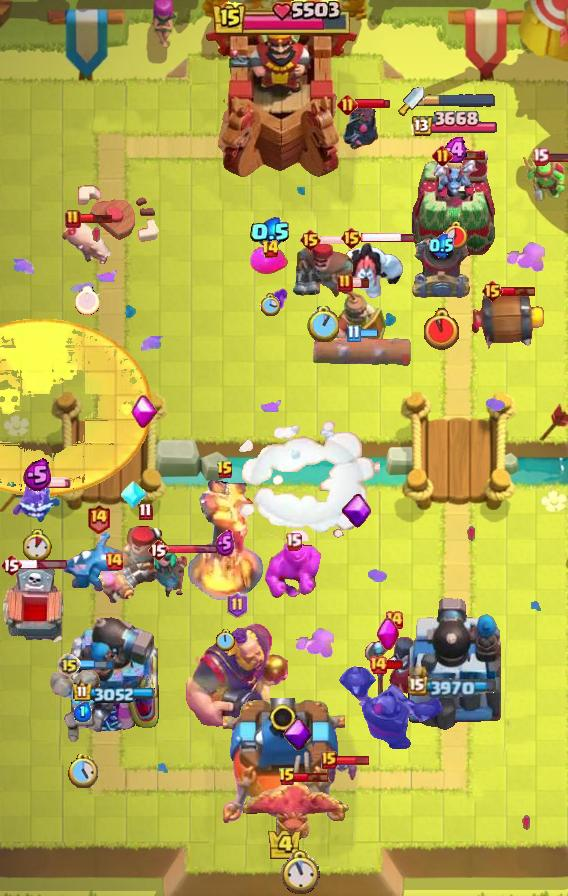bar: (361, 231, 416, 244), (16, 559, 68, 570), (166, 544, 218, 555), (34, 476, 72, 488), (320, 234, 357, 246), (294, 771, 330, 783), (501, 285, 537, 297), (450, 149, 486, 161), (355, 98, 391, 110), (78, 213, 114, 224), (335, 755, 370, 766), (79, 659, 114, 670), (546, 151, 568, 163), (386, 659, 405, 671), (359, 328, 378, 339), (351, 278, 370, 289)
bar-level: (86, 503, 111, 534), (57, 653, 81, 677), (481, 279, 504, 303), (299, 228, 322, 252), (340, 226, 363, 250), (227, 592, 248, 618), (0, 553, 22, 577), (147, 538, 169, 562), (432, 145, 453, 166), (337, 94, 358, 115), (368, 655, 388, 675), (384, 610, 404, 630), (104, 551, 124, 571), (261, 239, 280, 259), (278, 767, 296, 787), (216, 460, 234, 480), (285, 532, 302, 551), (532, 147, 549, 166), (337, 273, 353, 293), (65, 209, 81, 229), (321, 751, 337, 769), (138, 502, 153, 521), (346, 324, 361, 343)
barbarian-barrel: (468, 289, 548, 349)
bat: (324, 757, 358, 785)
cannoneer-tower: (405, 595, 501, 731), (68, 611, 160, 731)
clock: (281, 850, 320, 895), (424, 308, 459, 350), (307, 306, 339, 342), (68, 754, 98, 788), (23, 529, 52, 561), (442, 220, 470, 250), (75, 286, 100, 315), (260, 293, 280, 317), (215, 629, 235, 652)
dagger-duchess-tower: (409, 138, 497, 256)
dagger-duchess-tower-bar: (424, 93, 496, 107)
electro-dragon: (56, 530, 140, 594)
electro-spirit: (11, 479, 63, 523)
elixir: (250, 217, 291, 248), (23, 458, 52, 492), (443, 137, 470, 163), (429, 233, 454, 258), (215, 530, 235, 556), (74, 702, 92, 722)
elixir-golem-mid: (265, 540, 321, 600)
elixir-golem-small: (250, 247, 290, 275)
evolution-symbol: (340, 492, 373, 530), (283, 718, 313, 752), (131, 395, 157, 429), (376, 617, 400, 651)
firecracker: (94, 567, 135, 609)
golemite: (46, 667, 120, 749)
hog: (59, 220, 115, 270)
hunter: (115, 523, 175, 595), (289, 243, 357, 301)
ice-spirit-evolution-symbol: (120, 479, 148, 511)
king-tower: (205, 11, 363, 181), (223, 698, 345, 826)
king-tower-bar: (213, 0, 355, 38)
mini-pekka: (341, 103, 381, 155)
minion: (434, 154, 478, 200)
mortar: (410, 234, 472, 302)
night-witch: (364, 633, 424, 703)
rascal-girl: (148, 546, 194, 600)
royal-recruit: (331, 283, 387, 349)
spear-goblin: (520, 153, 568, 201)
the-log: (311, 332, 413, 372)
tower-bar: (409, 111, 497, 139), (408, 675, 499, 698), (73, 682, 155, 703)
